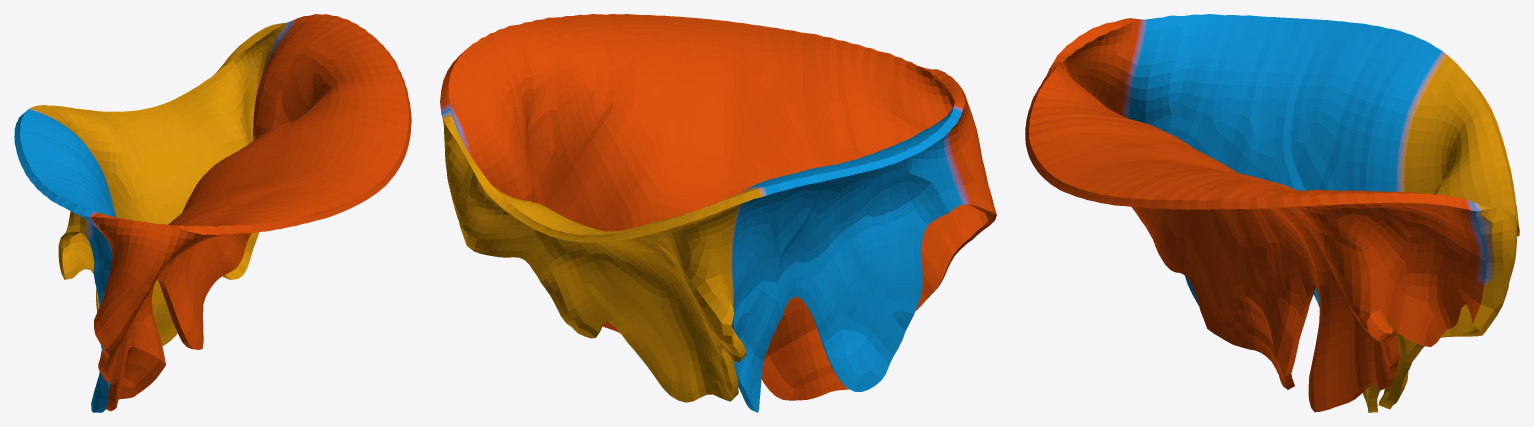
File: OCS13_1015_elset.glb
3 renders of one model, left to right at view 1: azimuth 30°, elevation 25°; view 2: azimuth 150°, elevation 25°; view 3: azimuth 270°, elevation 25°, orthographic. The views are drawn at different scales.
Parts seen in each view (by area): view 1: OCS13_1015_atrial_elset; view 2: OCS13_1015_atrial_elset; view 3: OCS13_1015_atrial_elset.
Boxes of the visible parts, <box> form: OCS13_1015_atrial_elset: <box>14,14,411,412</box>; OCS13_1015_atrial_elset: <box>440,14,996,412</box>; OCS13_1015_atrial_elset: <box>1025,14,1519,412</box>.
Size of the model in its own units: 1.58 by 1.13 by 1.44.
